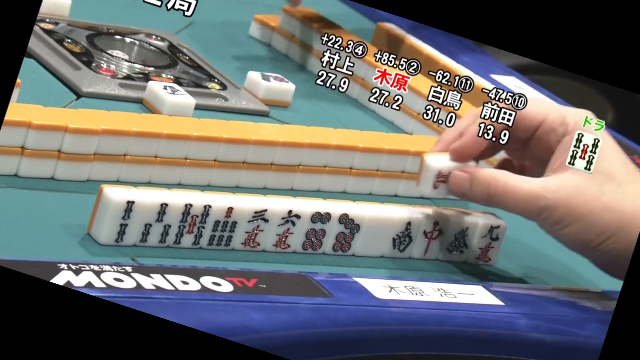Tehai: (94, 180, 517, 275)
